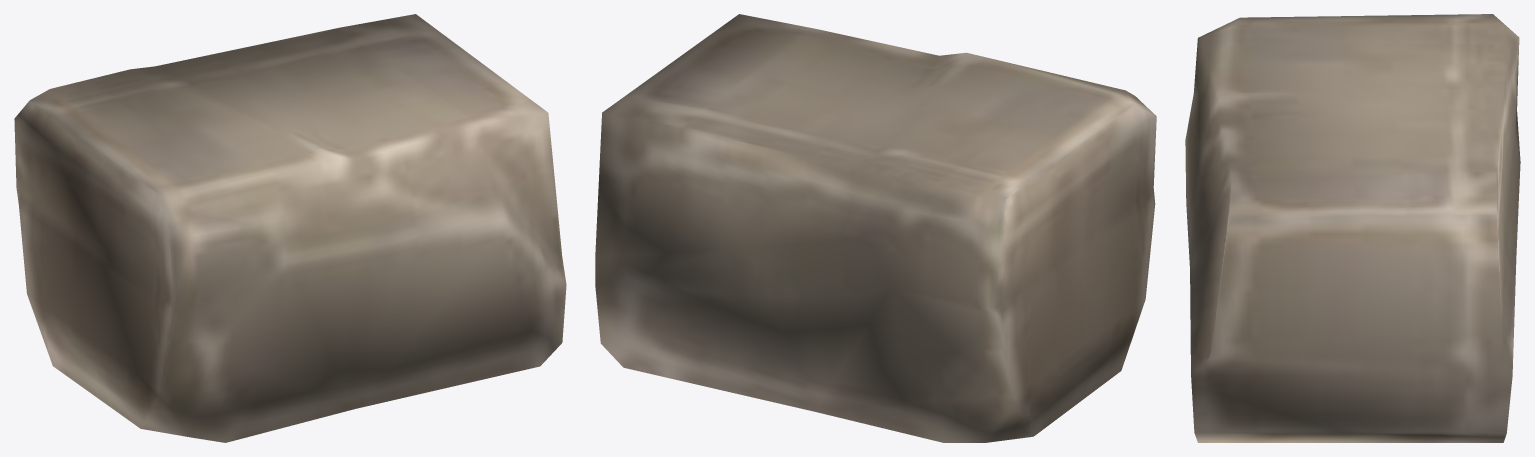
Rendered from prop-qm-propbrick1.glb.
3 renders of one model, left to right at view 1: azimuth 30°, elevation 25°; view 2: azimuth 150°, elevation 25°; view 3: azimuth 270°, elevation 25°, orthographic. The views are drawn at different scales.
Parts seen in each view (by area): view 1: Cube_017_Retopology_004; view 2: Cube_017_Retopology_004; view 3: Cube_017_Retopology_004.
Part boxes in pixels (box(x1,y1,x2,y2)): Cube_017_Retopology_004: box(14, 14, 566, 442); Cube_017_Retopology_004: box(595, 14, 1156, 442); Cube_017_Retopology_004: box(1185, 14, 1520, 442).
Bounding box in the file's own units: 0.3456 × 0.208 × 0.2502.
1 material, 1 textured.
